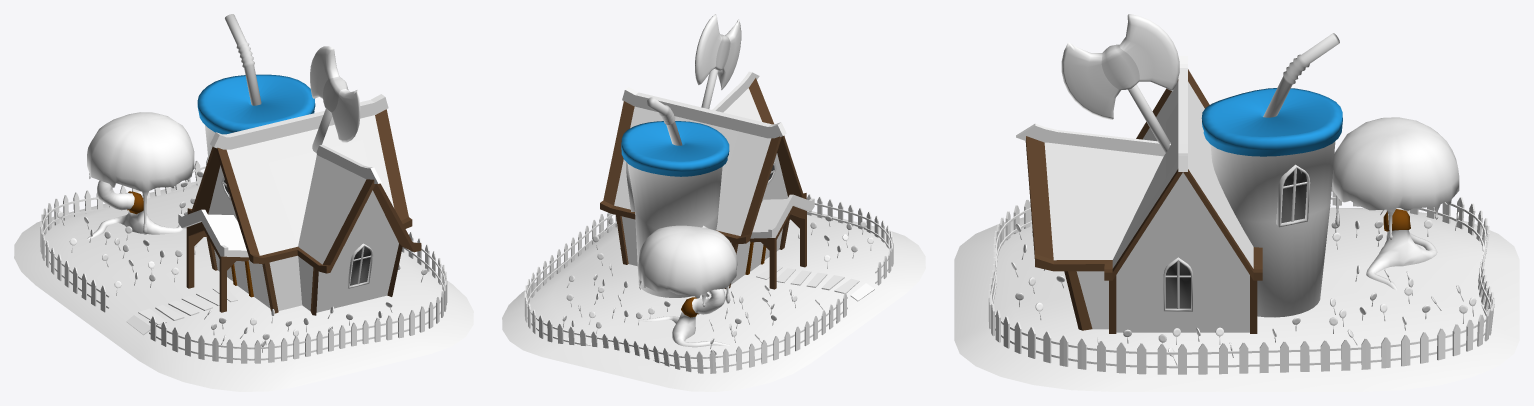
3 renders of one model, left to right at view 1: azimuth 30°, elevation 25°; view 2: azimuth 150°, elevation 25°; view 3: azimuth 270°, elevation 25°, orthographic. The views are drawn at different scales.
Visible parts, largest first — view 1: Plane; view 2: Plane; view 3: Plane.
Boxes of the visible parts, box(x1,y1,x2,y2) form: Plane: box(14, 14, 473, 391); Plane: box(502, 14, 925, 391); Plane: box(954, 14, 1519, 391).
Bounding box in the file's own units: 26.23 × 20.71 × 34.07.
